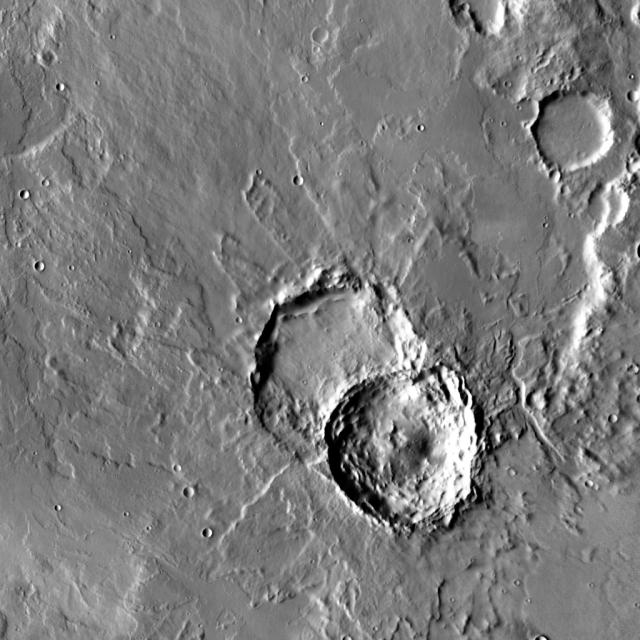crater: (255, 284, 438, 464), (333, 368, 491, 524), (166, 0, 271, 66), (537, 89, 620, 172), (594, 184, 636, 225), (477, 0, 512, 32), (522, 96, 550, 125), (534, 389, 555, 410), (317, 29, 333, 45), (557, 169, 568, 180), (190, 488, 202, 498), (270, 199, 281, 209), (626, 83, 634, 96), (300, 176, 310, 186), (559, 90, 569, 100), (566, 71, 576, 81), (28, 190, 38, 199), (616, 414, 625, 424), (209, 529, 219, 538), (180, 464, 189, 473), (49, 180, 58, 188), (42, 262, 51, 270), (64, 83, 72, 91), (569, 186, 577, 194), (504, 72, 512, 80), (312, 38, 320, 46), (468, 2, 476, 10), (417, 117, 424, 125), (585, 474, 593, 481), (550, 70, 557, 78), (507, 461, 514, 468), (54, 498, 60, 505), (256, 163, 262, 169), (592, 478, 598, 483)
